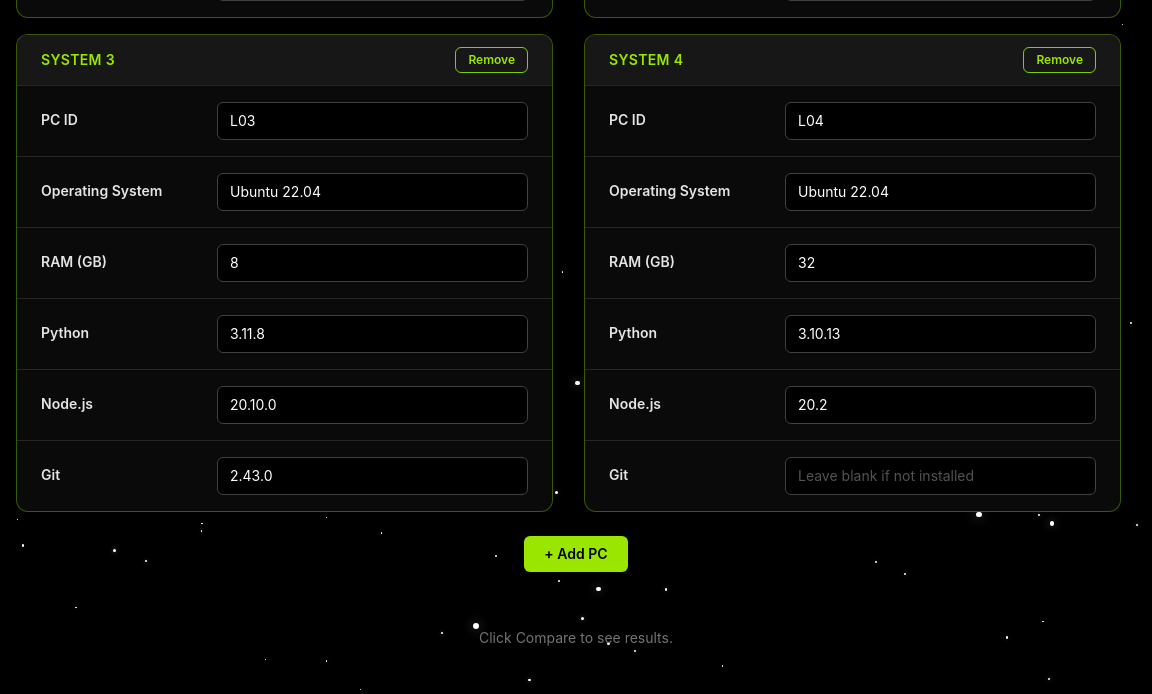
Test: App (Section 2: PC Records) › shows an inline error for an invalid installed tool version, identifying the PC and tool
(page scrolled)
Replace the text in the field named "System 4 Python version" with "3..11": (940, 334) [785, 315, 1096, 353]
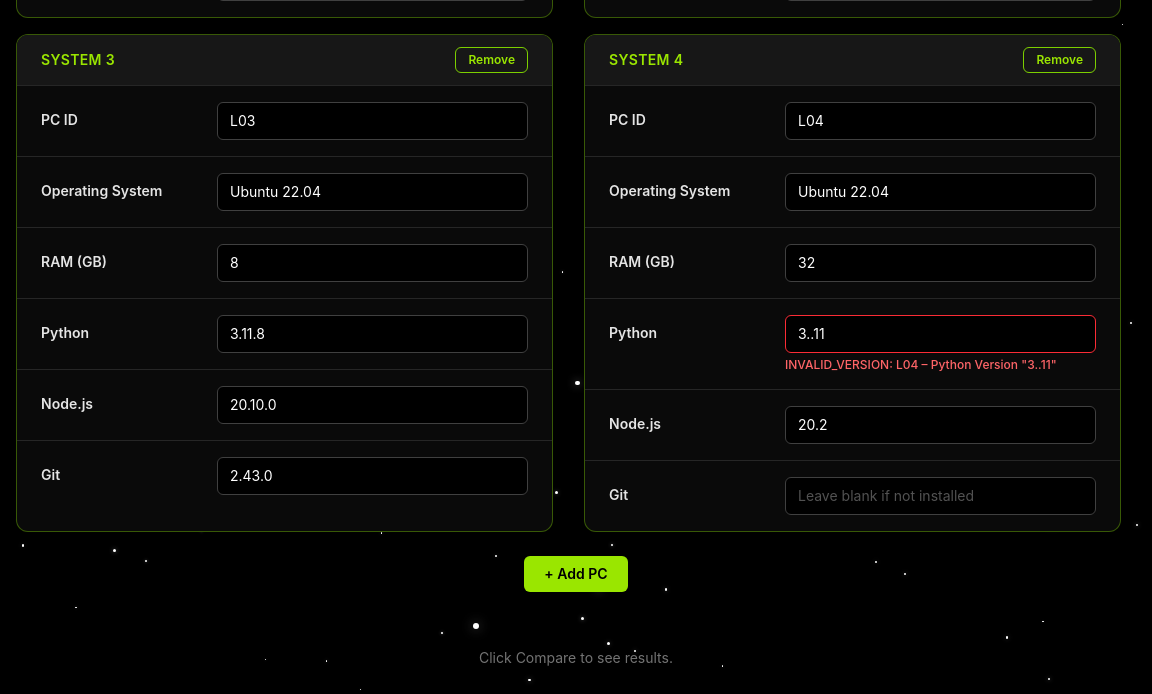
Expected: the text "INVALID_VERSION: L04 – Python Version \"3..11\"" is shown, [785, 357, 1096, 373]
